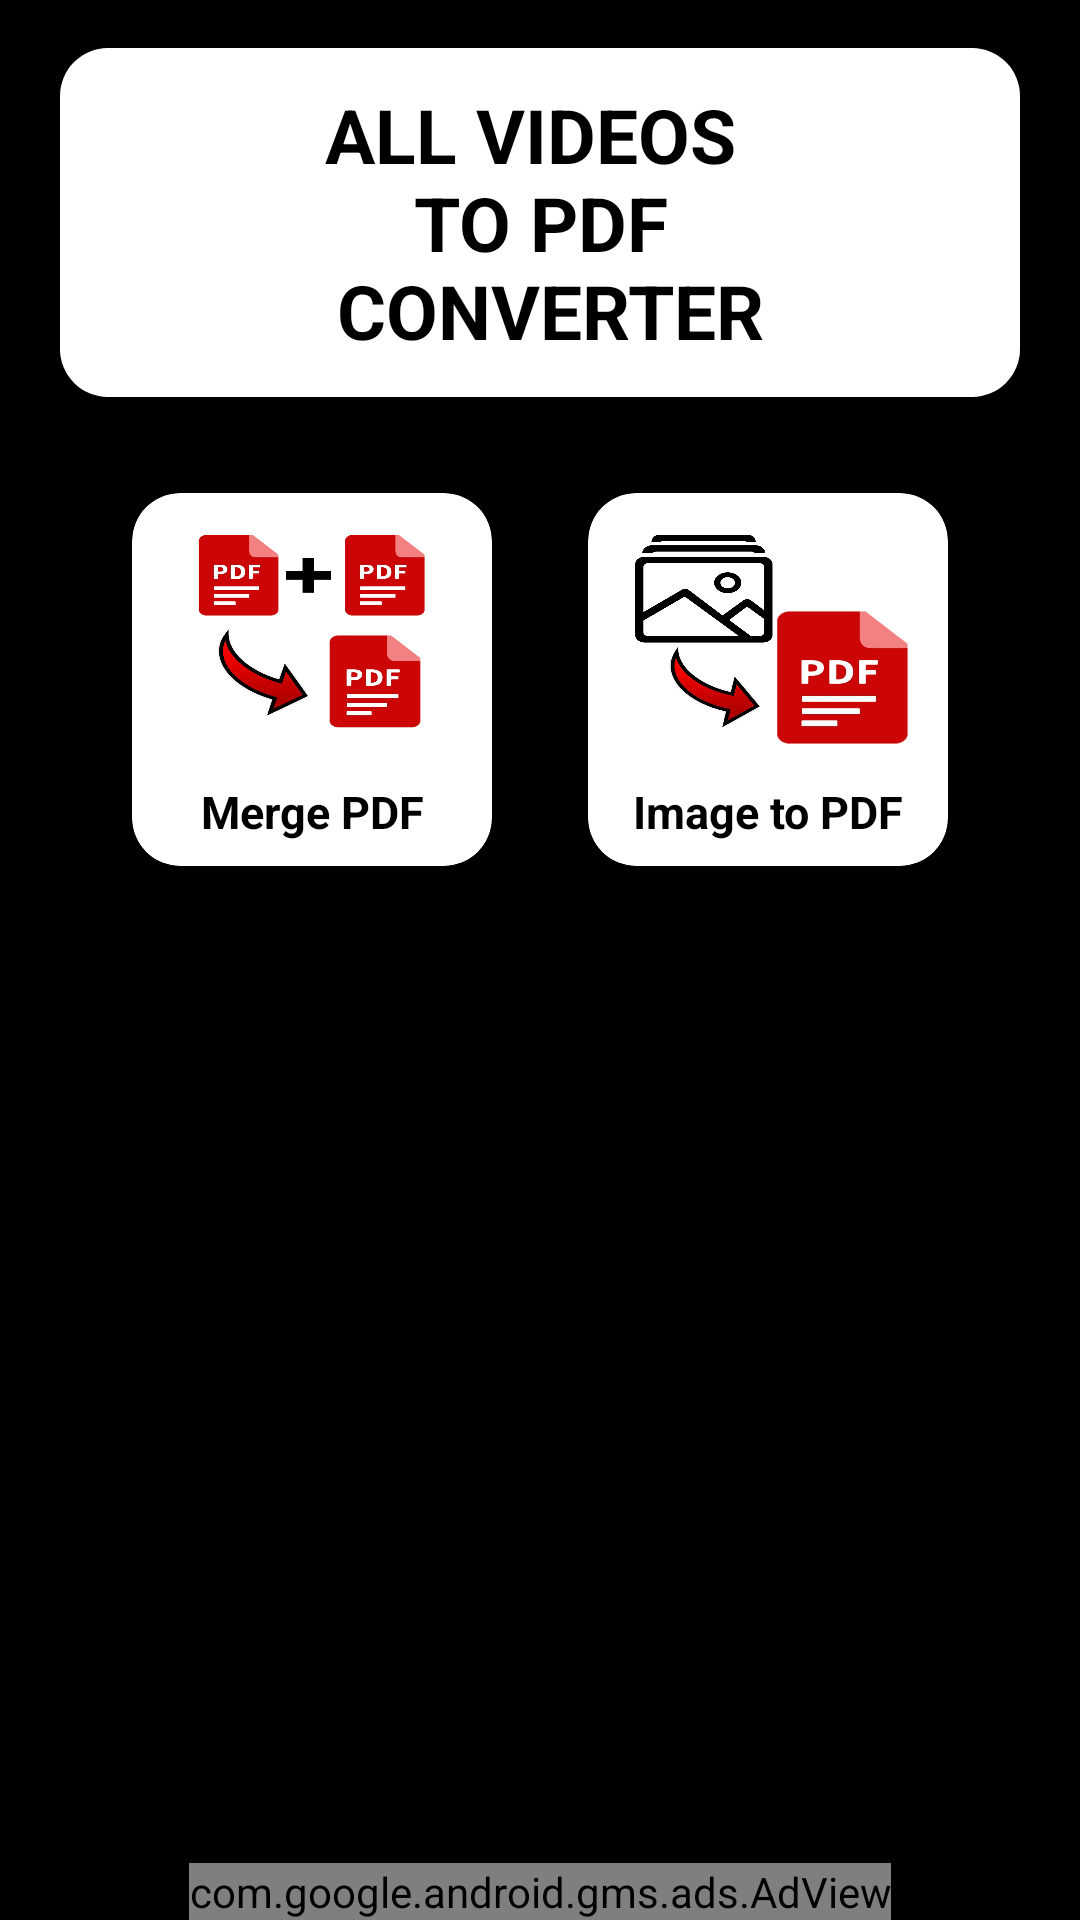

Locate icon controls on the screen. Image size 1080 x 1920, boxes as (x1, y1, x2, y2).
pdtopd: (199, 535, 425, 728)
